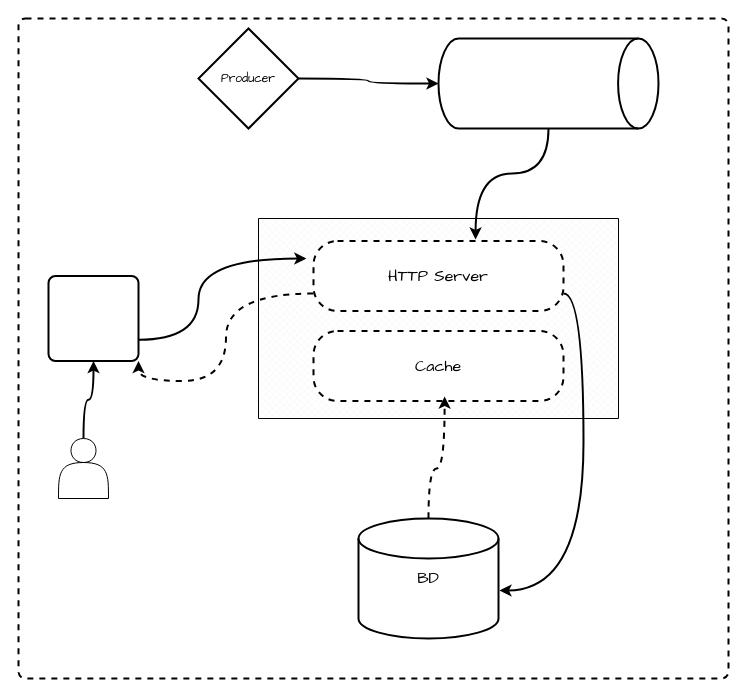
Image size: 746x696. Some labels were removed from this diagram. Here are the shapes that lost their labels. From the top down, the centre of each, then its label:
[548,83]: Kafka
[93,318]: UI
